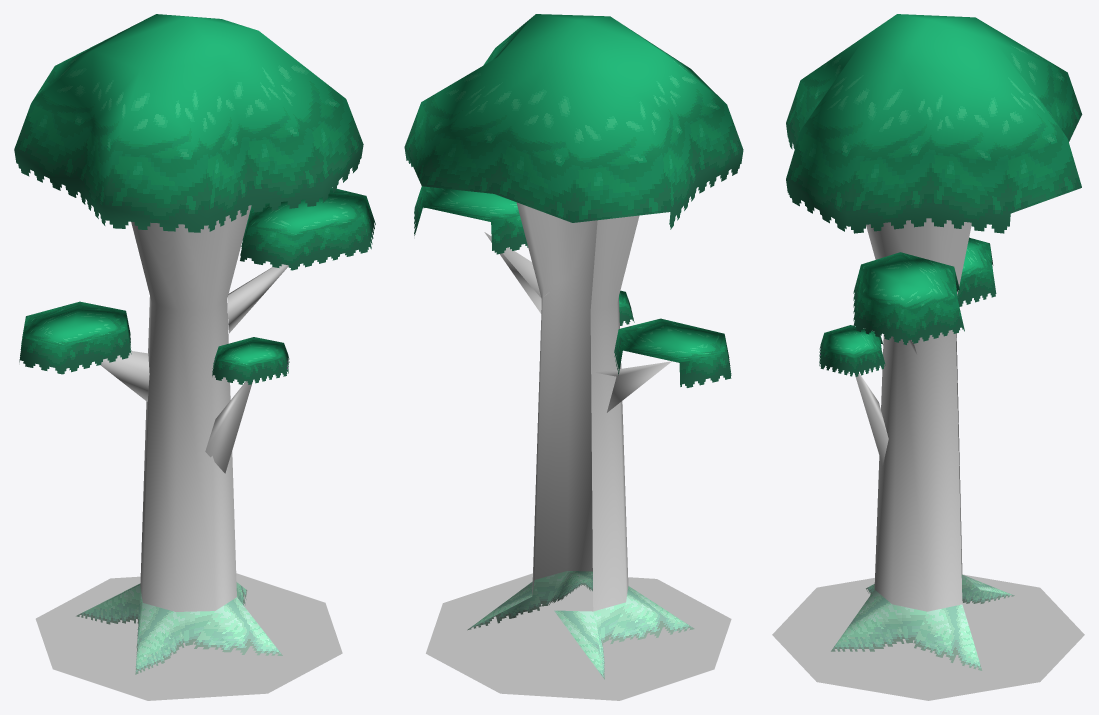
The model's file is wf_tree_s1.dae.
3 renders of one model, left to right at view 1: azimuth 30°, elevation 25°; view 2: azimuth 150°, elevation 25°; view 3: azimuth 270°, elevation 25°, orthographic.
Parts seen in each view (by area): view 1: wf_tree_s1; view 2: wf_tree_s1; view 3: wf_tree_s1.
Part boxes in pixels (box(x1,y1,x2,y2)): wf_tree_s1: box(14, 14, 375, 700); wf_tree_s1: box(404, 14, 743, 700); wf_tree_s1: box(772, 14, 1084, 700).
Size of the model in its own units: 139 by 243 by 112.
